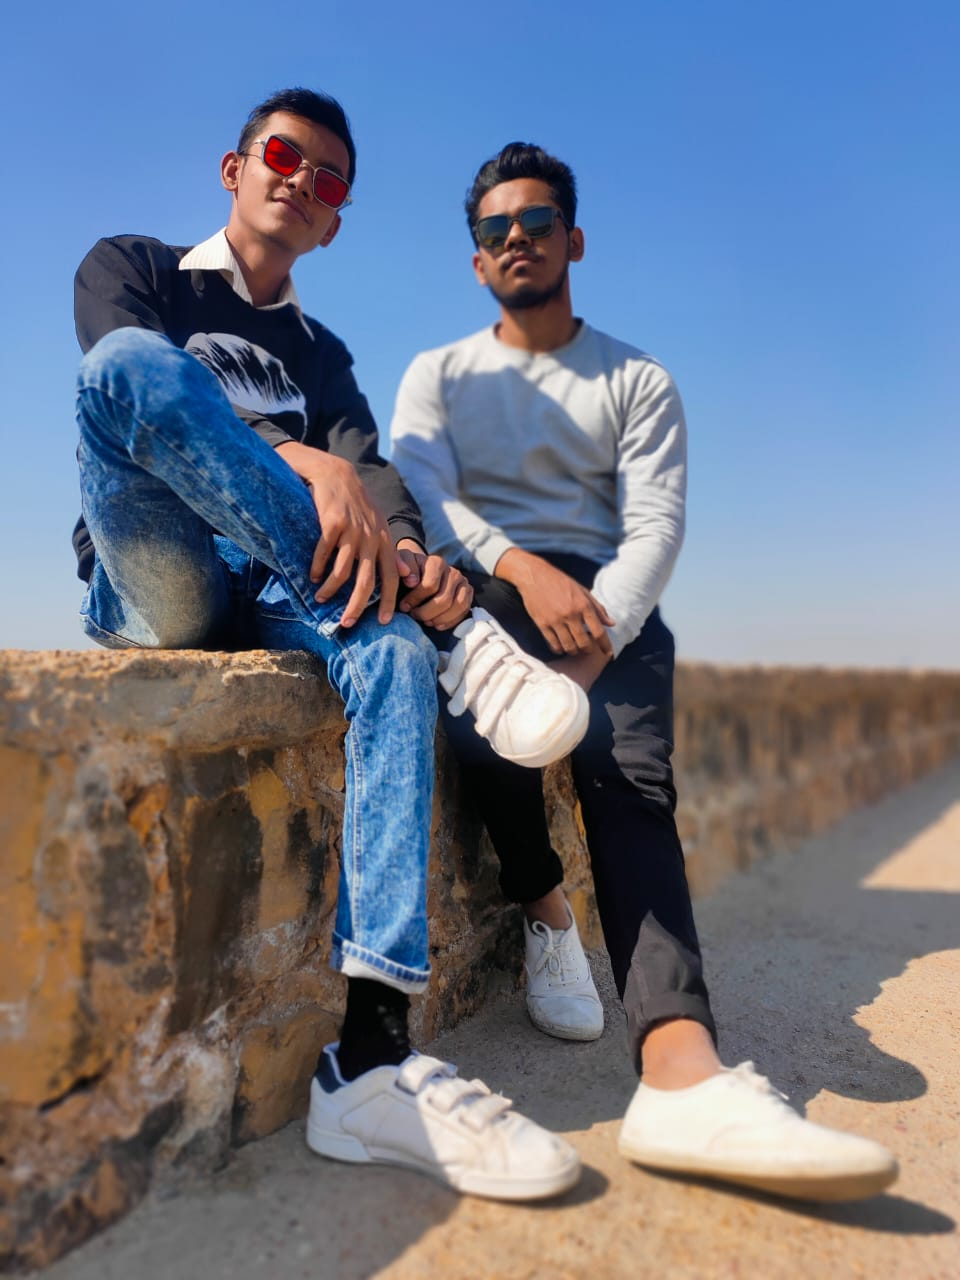NoMask: (254, 127, 344, 253), (472, 200, 566, 300)
